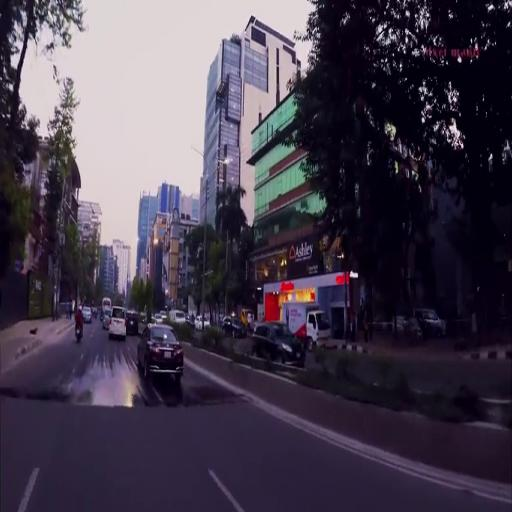bus: (102, 297, 112, 312)
car: (137, 323, 185, 377), (252, 321, 307, 366), (223, 315, 248, 338), (126, 309, 139, 333), (195, 316, 211, 329), (82, 305, 92, 320), (103, 310, 111, 328), (155, 314, 164, 323)
minivan: (109, 305, 127, 337)
motorbike: (75, 319, 83, 342)
pickup: (283, 301, 332, 349), (241, 308, 253, 324)
van: (169, 309, 186, 322)
